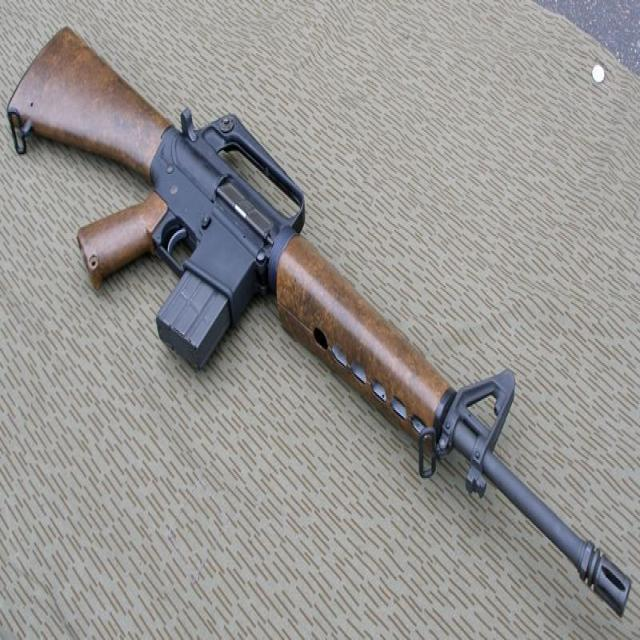weapon: (6, 24, 632, 620)
